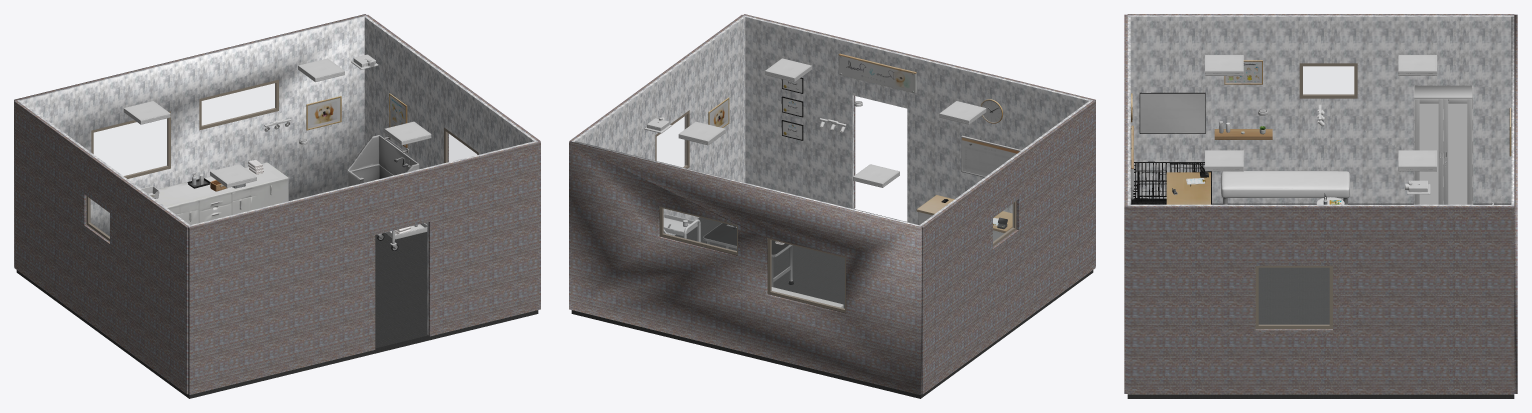
Rendered from scene_web.glb.
3 views of the same model, side by side, from view 1: azimuth 30°, elevation 25°; view 2: azimuth 150°, elevation 25°; view 3: azimuth 270°, elevation 25° (orthographic). The views are drawn at different scales.
Visible parts, largest first — view 1: geometry_0.003, geometry_0, geometry_0.007, geometry_0.004, Mesh_0, geometry_0.015, glass, geometry_0.008, glass.001, geometry_0.018, geometry_0.002, geometry_0.001 (+11 smaller); view 2: geometry_0.001, geometry_0.002, geometry_0.007, geometry_0.004, Mesh_0, glass, glass.001, geometry_0.016, geometry_0.019, geometry_0.011, geometry_0.003, glass.002 (+13 smaller); view 3: geometry_0.005, geometry_0.006, Mesh_0, glass.002, geometry_0.010, geometry_0.029, P_11823adfd27b5318.001, P_ac2c10a63efbaf87.001, geometry_0.001, geometry_0.003, glass.003, geometry_0.013 (+19 smaller).
Part boxes in pixels (x1,y1,x2,y2): geometry_0.003: [188, 141, 540, 394]; geometry_0: [19, 16, 364, 236]; geometry_0.007: [14, 100, 188, 394]; geometry_0.004: [363, 15, 537, 224]; Mesh_0: [16, 232, 538, 398]; geometry_0.015: [155, 162, 288, 224]; glass: [94, 119, 167, 175]; geometry_0.008: [347, 135, 419, 234]; glass.001: [202, 83, 275, 125]; geometry_0.018: [306, 96, 341, 130]; geometry_0.002: [191, 141, 535, 334]; geometry_0.001: [14, 14, 366, 266]; geometry_0.001: [569, 141, 921, 394]; geometry_0.002: [745, 16, 1090, 224]; geometry_0.007: [921, 100, 1095, 394]; geometry_0.004: [572, 15, 746, 235]; Mesh_0: [571, 209, 1093, 398]; glass: [771, 240, 844, 308]; glass.001: [663, 209, 736, 251]; geometry_0.016: [838, 53, 916, 93]; geometry_0.019: [961, 135, 1021, 177]; geometry_0.011: [703, 223, 793, 286]; geometry_0.003: [743, 14, 1095, 266]; glass.002: [657, 115, 686, 167]; geometry_0.005: [1127, 206, 1514, 394]; geometry_0.006: [1127, 15, 1514, 203]; Mesh_0: [1127, 203, 1514, 398]; glass.002: [1259, 268, 1329, 324]; geometry_0.010: [1221, 171, 1349, 204]; geometry_0.029: [1139, 92, 1205, 133]; P_11823adfd27b5318.001: [1448, 103, 1467, 204]; P_ac2c10a63efbaf87.001: [1419, 103, 1438, 204]; geometry_0.001: [1514, 14, 1517, 393]; geometry_0.003: [1124, 14, 1127, 393]; glass.003: [1303, 66, 1353, 94]; geometry_0.013: [1131, 161, 1211, 204].
Bounding box in the file's own units: 7.1 × 3.3 × 6.1.
59 materials, 51 textured.
